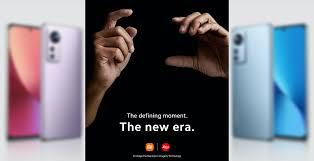1: (170, 10, 228, 81), (92, 5, 141, 89)
Smartphone: (40, 25, 82, 142), (234, 27, 271, 141), (271, 19, 305, 140), (7, 24, 40, 139)
